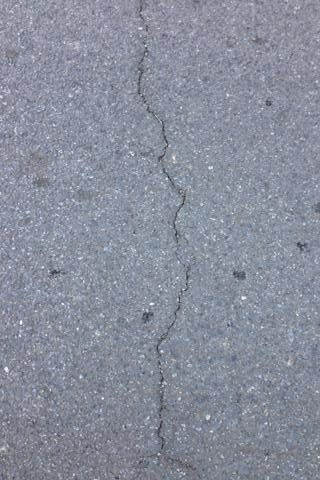A: (131, 3, 200, 476)
